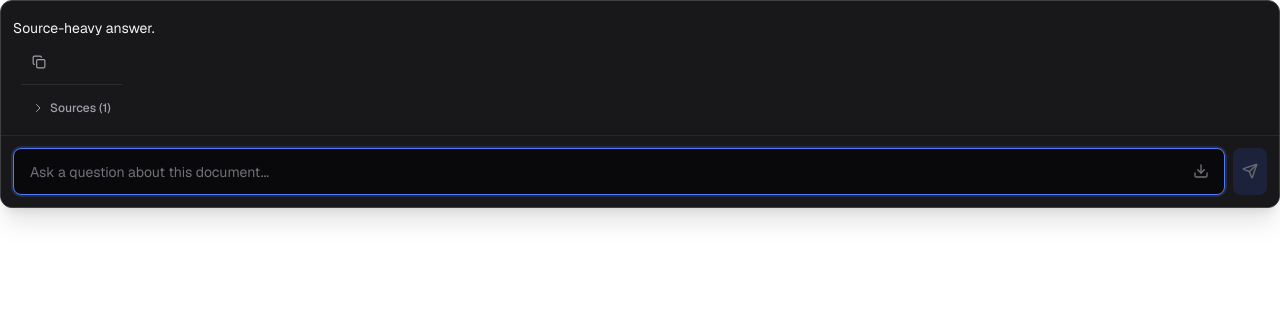
Test case: ChatWindow streaming lifecycle › auto-scrolls expanded sources into view and caps source list height
Check: the text "Source-heavy answer." is shown, box top-left (13, 19), bottom-right (154, 37)
Click the button "Sources (1)": (71, 108) top-left (21, 93), bottom-right (122, 123)
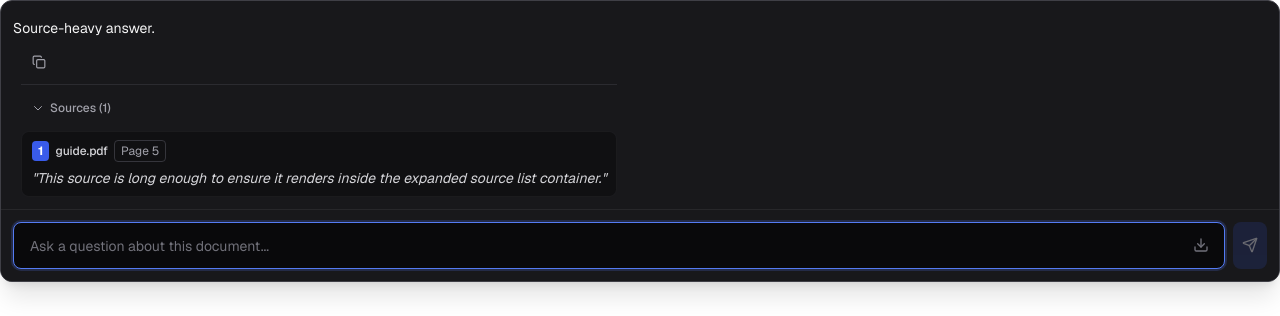
Check: the element that starts with "guide.pdf" is shown, box top-left (21, 131), bottom-right (617, 197)
